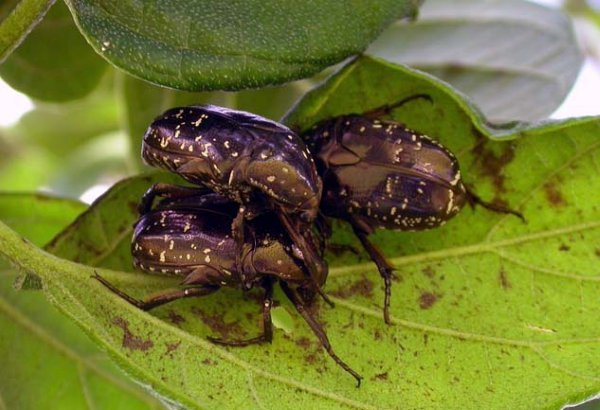Protaetia _orientalis: (90, 183, 373, 401), (319, 92, 527, 329), (135, 98, 329, 222)
